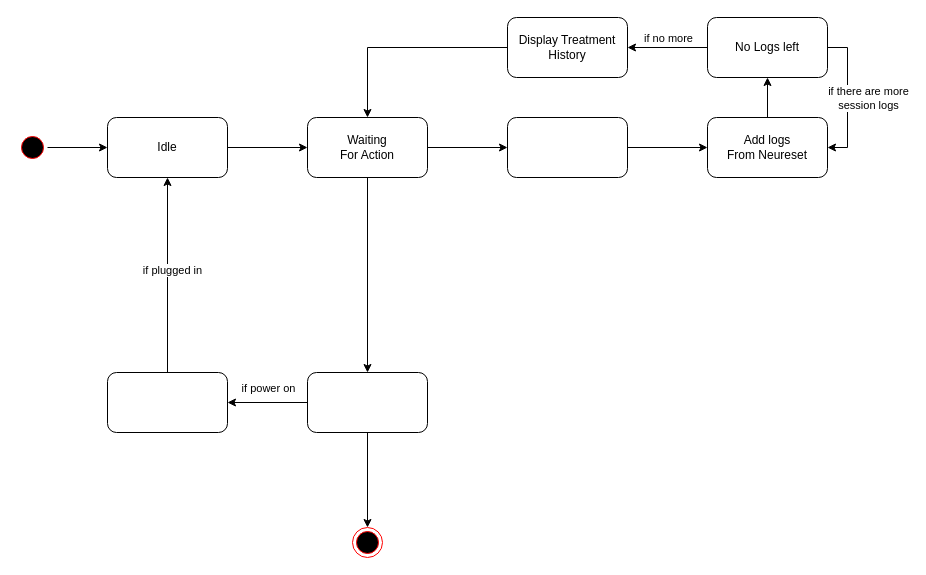
Image size: 926x575. Some labels were removed from this diagram. Here are the shapes that lost their labels. From the top down, the centre of each, then its label:
point 567,147: Sync Changes
point 167,402: Power On
point 367,402: Power Off
